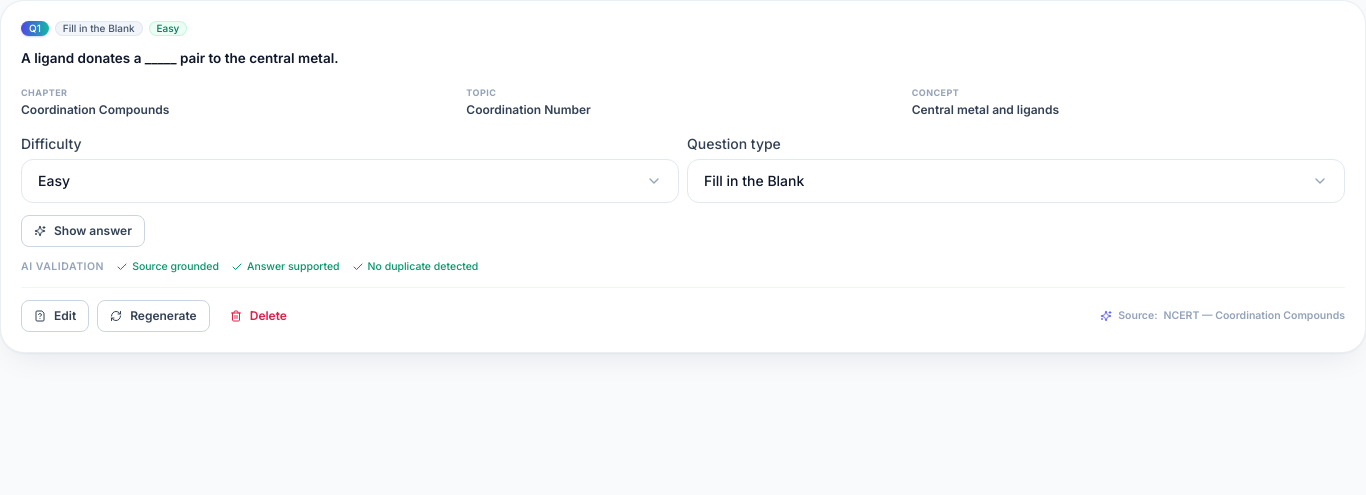
Test: micro-assessment question card presentation › hides the answer until Show answer is pressed and can hide it again
What coordinates should you click on to do the following:
click the button "Show answer"
I would click on:
 (83, 231)
Its box is [21,215,145,247].
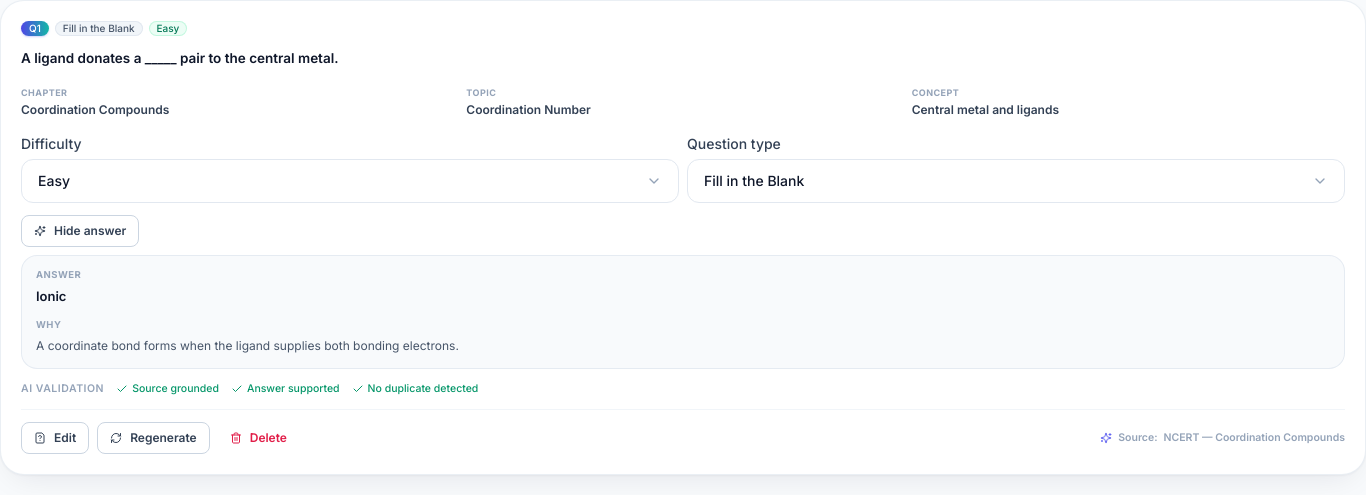
Now the button "Hide answer" is expanded
Now the button "Hide answer" is shown
Now the text "Ionic" is shown, box [36,288,66,304]
What coordinates should you click on to do the following:
click the button "Hide answer"
I would click on:
 (80, 231)
Its box is [21,215,139,247].
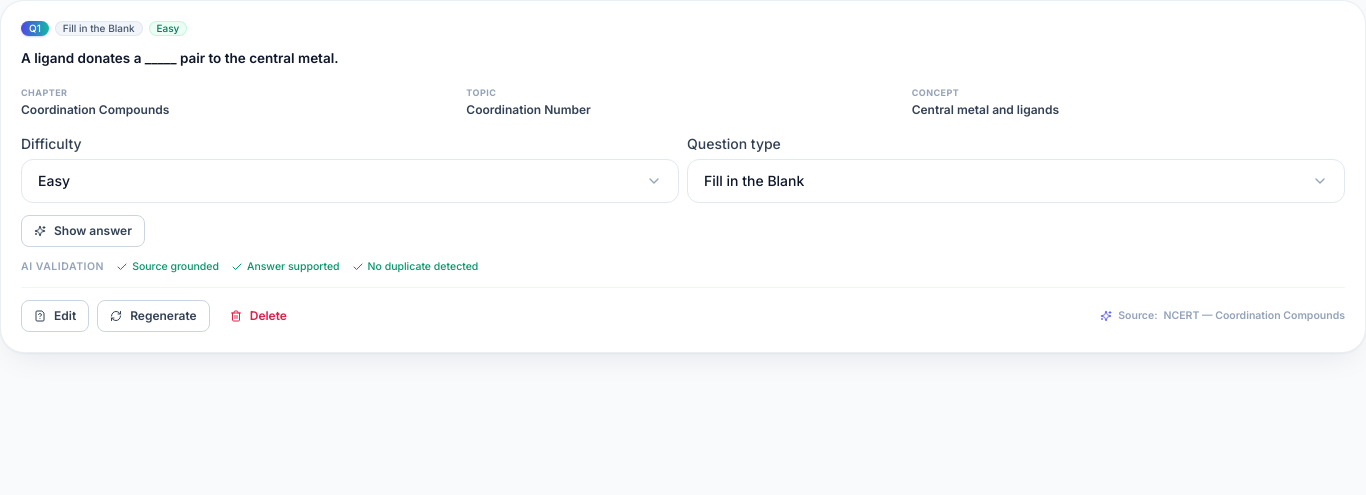
Now the button "Show answer" is collapsed, box [21,215,145,247]
